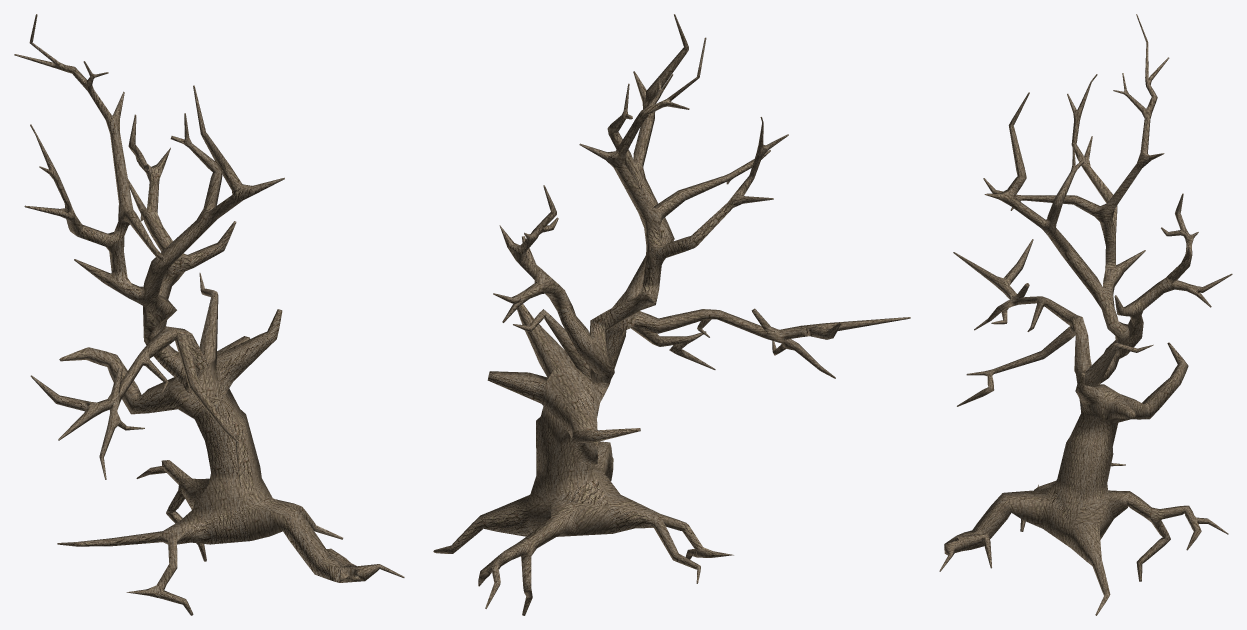
The model's file is dead_tree_3.fbx.
3 renders of one model, left to right at view 1: azimuth 30°, elevation 25°; view 2: azimuth 150°, elevation 25°; view 3: azimuth 270°, elevation 25°, orthographic. The views are drawn at different scales.
Visible parts, largest first — view 1: dead_tree_3; view 2: dead_tree_3; view 3: dead_tree_3.
Boxes of the visible parts, bbox=[...] form: dead_tree_3: bbox=[14, 14, 404, 615]; dead_tree_3: bbox=[433, 14, 910, 615]; dead_tree_3: bbox=[939, 14, 1232, 615].
Size of the model in its own units: 764 by 1166 by 623.
Materials: 1 (1 with a texture image).
